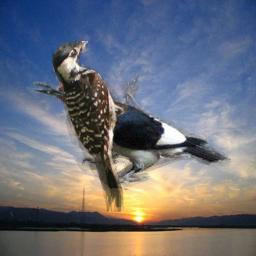Woodpecker: (27, 76, 231, 190), (52, 41, 139, 212)
